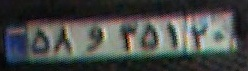character: (52, 23, 77, 57), (116, 20, 140, 55), (139, 19, 163, 53), (28, 24, 52, 57), (163, 16, 182, 57), (87, 24, 111, 53), (189, 21, 210, 51), (213, 27, 225, 46)
